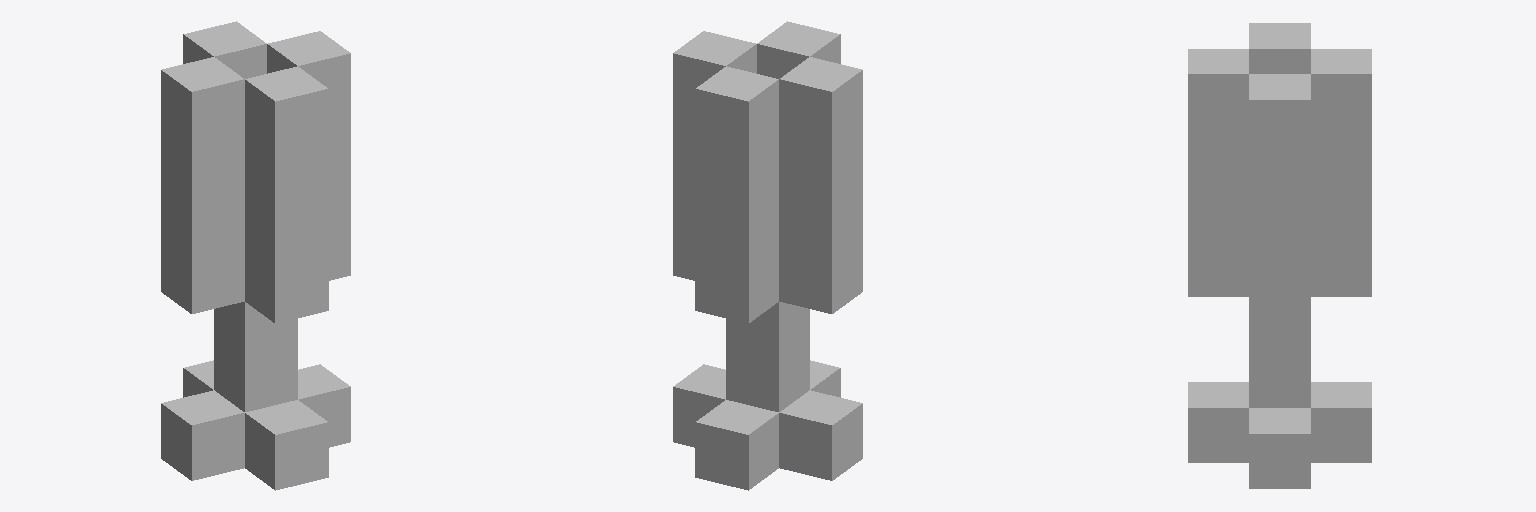
Rendered from champagne cup.obj.
The picture shows the model from 3 angles: view 1: azimuth 30°, elevation 25°; view 2: azimuth 150°, elevation 25°; view 3: azimuth 270°, elevation 25°; orthographic projection.
Visible parts, largest first — view 1: champagne cup; view 2: champagne cup; view 3: champagne cup.
Part boxes in pixels (x1,y1,x2,y2): champagne cup: (161, 21, 350, 490); champagne cup: (673, 21, 862, 490); champagne cup: (1188, 23, 1371, 488).
Size of the model in its own units: 3 by 7 by 3.